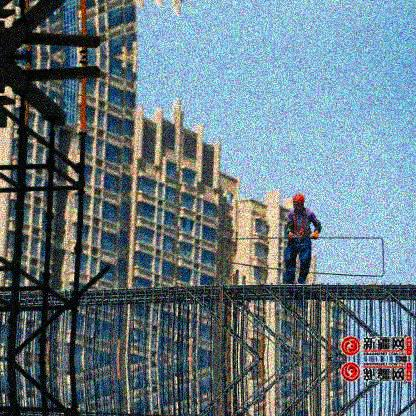helmet: (292, 192, 305, 212)
